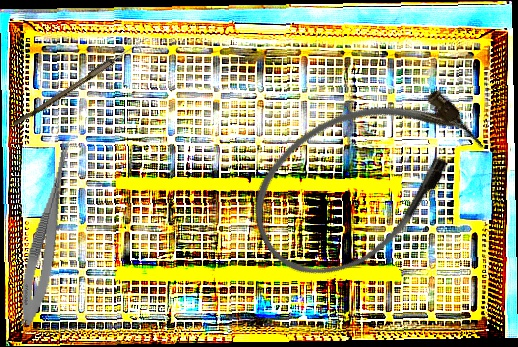Cannula: (226, 55, 502, 304)
Micro Scissor: (14, 135, 77, 328)
Surgical Spoon: (12, 34, 149, 130)
